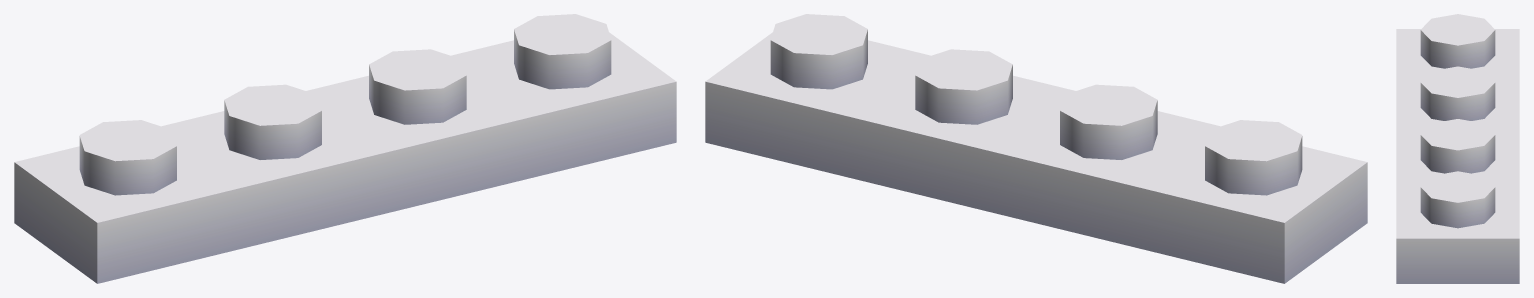
Rendered from kenney-brick-round-lq-plate-1-x-4.glb.
3 views of the same model, side by side, from view 1: azimuth 30°, elevation 25°; view 2: azimuth 150°, elevation 25°; view 3: azimuth 270°, elevation 25° (orthographic). The views are drawn at different scales.
Visible parts, largest first — view 1: round-lq-plate-1x4; view 2: round-lq-plate-1x4; view 3: round-lq-plate-1x4.
Boxes of the visible parts, x1,y1,x2,y2 form: round-lq-plate-1x4: (14,14,676,283); round-lq-plate-1x4: (705,14,1367,283); round-lq-plate-1x4: (1396,14,1519,283).
Size of the model in its own units: 0.318 by 0.05 by 0.079.
Materials: 1 (1 with a texture image).
